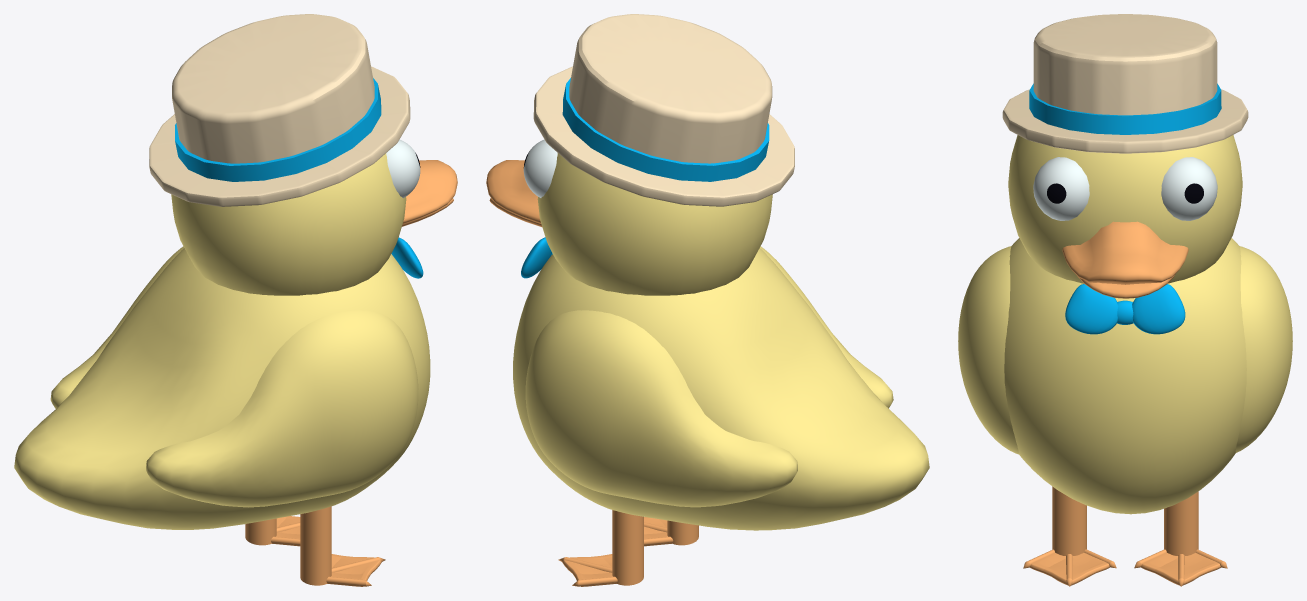
Rendered from duck.fbx.
3 views of the same model, side by side, from view 1: azimuth 30°, elevation 25°; view 2: azimuth 150°, elevation 25°; view 3: azimuth 270°, elevation 25° (orthographic).
Parts seen in each view (by area): view 1: Duck_body, wings, main_part_hat, Duck_head, brim_hat, Band_hat, legs, Duck_topbill, feet, eyes, polySurface4; view 2: Duck_body, wings, main_part_hat, Duck_head, brim_hat, Band_hat, legs, Duck_topbill, feet, eyes, polySurface2; view 3: Duck_body, Duck_head, main_part_hat, wings, brim_hat, eyes, Duck_topbill, Band_hat, legs, feet, polySurface4, polySurface2 (+1 smaller).
Part boxes in pixels (x1,y1,x2,y2): Duck_body: (14,248,430,529); wings: (50,246,418,507); main_part_hat: (172,14,374,163); Duck_head: (171,153,406,295); brim_hat: (149,66,410,206); Band_hat: (175,78,381,181); legs: (245,506,331,585); Duck_topbill: (403,160,457,223); feet: (271,516,385,586); eyes: (386,139,420,198); polySurface4: (392,237,423,278); Duck_body: (513,248,929,530); wings: (525,246,893,507); main_part_hat: (569,14,772,163); Duck_head: (537,153,772,295); brim_hat: (533,66,794,206); Band_hat: (562,78,769,181); legs: (612,510,698,585); Duck_topbill: (486,160,541,223); feet: (558,517,673,586); eyes: (523,139,557,197); polySurface2: (521,237,551,278); Duck_body: (1004,238,1246,514); Duck_head: (1008,135,1242,283); main_part_hat: (1033,14,1217,115); wings: (958,246,1292,454); brim_hat: (1002,89,1248,153); eyes: (1033,157,1217,220); Duck_topbill: (1062,221,1188,284); Band_hat: (1029,83,1221,134); legs: (1052,486,1198,555); feet: (1023,549,1227,586); polySurface4: (1065,284,1118,334); polySurface2: (1132,284,1185,334).
Bounding box in the file's own units: 1139 × 1312 × 752.
